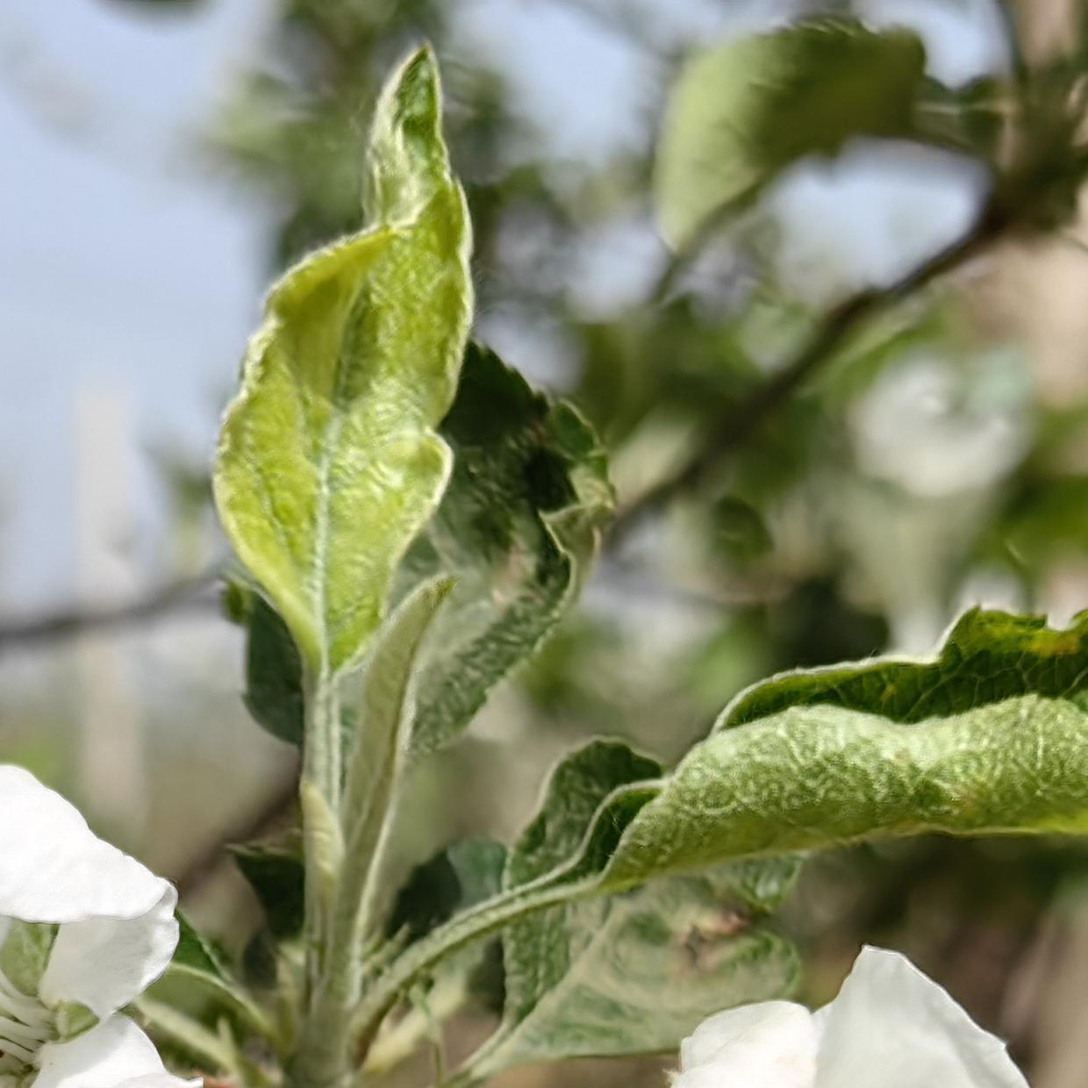apple_flower: (0, 765, 253, 1088)
